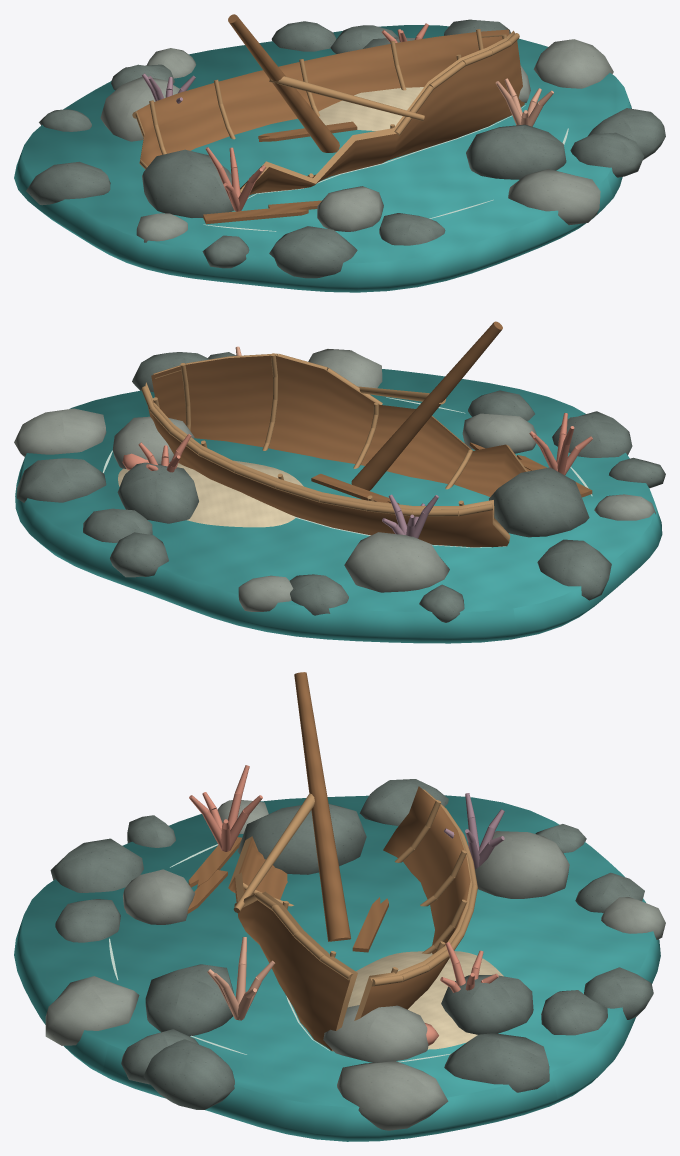
File: shipwreck-reef-v5-lod.fbx
3 renders of one model, top to bottom at view 1: azimuth 30°, elevation 25°; view 2: azimuth 150°, elevation 25°; view 3: azimuth 270°, elevation 25°, orthographic. The views are drawn at different scales.
Visible parts, largest first — view 1: Shipwreck | collectible LOD; view 2: Shipwreck | collectible LOD; view 3: Shipwreck | collectible LOD.
Part boxes in pixels (x1,y1,x2,y2): Shipwreck | collectible LOD: (14, 14, 665, 292); Shipwreck | collectible LOD: (14, 321, 665, 643); Shipwreck | collectible LOD: (14, 672, 665, 1141).
Size of the model in its own units: 172 by 60.38 by 145.
Materials: 11 (5 with a texture image).
